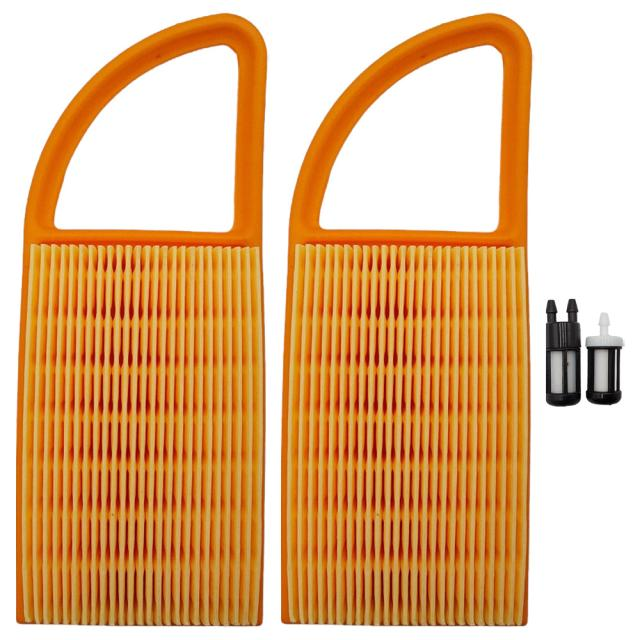air_filter: (278, 8, 540, 631), (17, 6, 272, 634)
